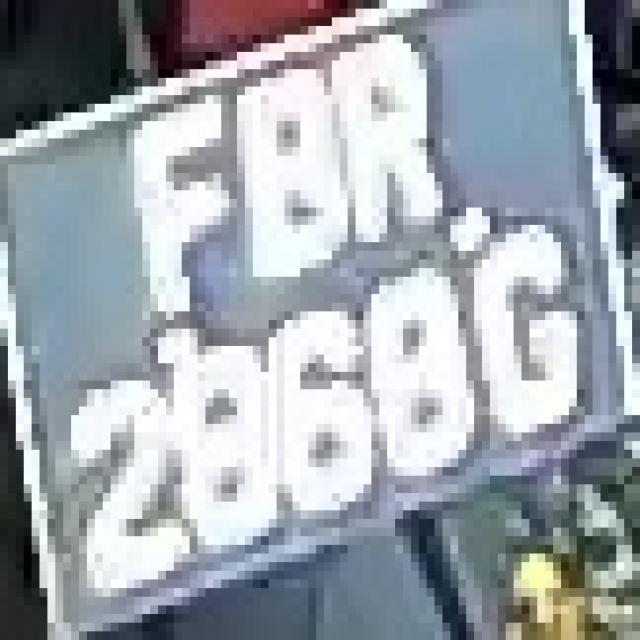2: (39, 364, 190, 606)
6: (253, 312, 379, 562)
8: (356, 260, 482, 510), (150, 355, 292, 562)
B: (221, 61, 348, 286)
F: (103, 95, 253, 346)
G: (466, 216, 585, 458)
R: (316, 26, 466, 259)
